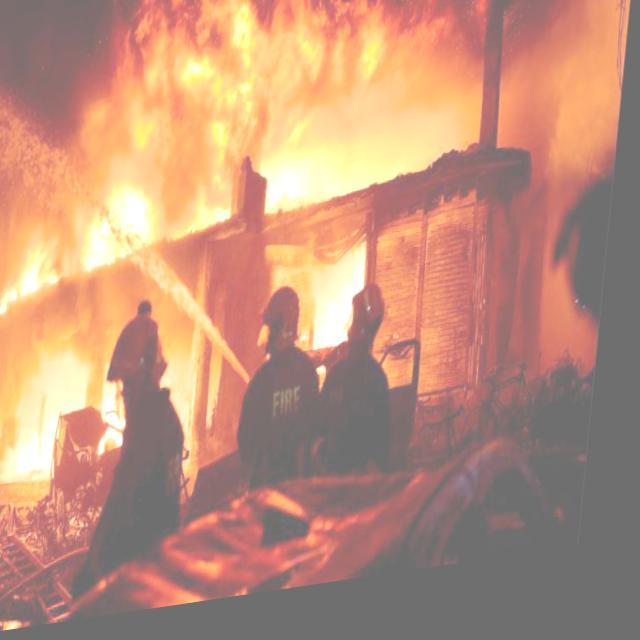Fire: (0, 0, 547, 478)
